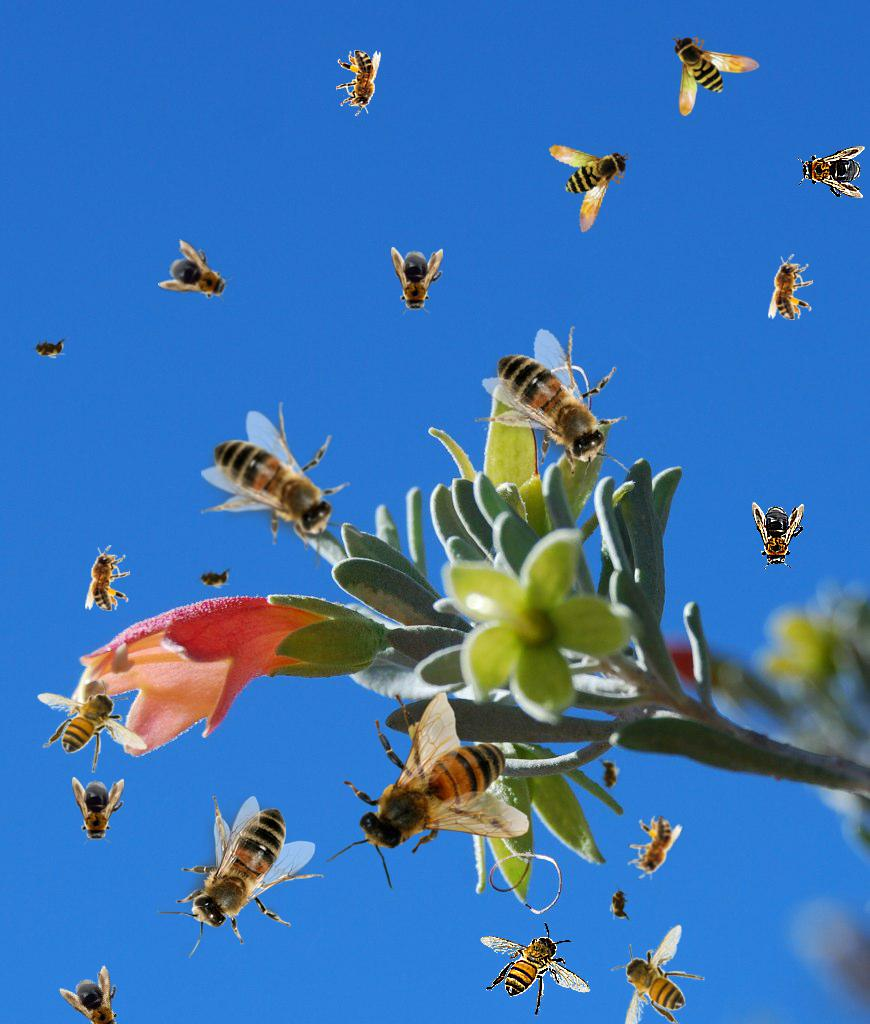Bee: (326, 692, 530, 891), (465, 311, 654, 505), (157, 796, 324, 958), (201, 402, 363, 569), (37, 679, 148, 773), (480, 922, 591, 1016), (533, 136, 633, 240), (611, 924, 705, 1024), (672, 34, 760, 116), (157, 238, 241, 314), (619, 809, 685, 888), (58, 963, 138, 1024), (797, 146, 865, 198), (752, 502, 804, 570), (72, 777, 124, 845), (391, 247, 443, 315), (768, 254, 813, 320), (85, 545, 130, 611), (336, 50, 381, 116), (194, 567, 234, 589), (609, 884, 631, 924), (29, 337, 69, 359), (598, 755, 620, 795)
